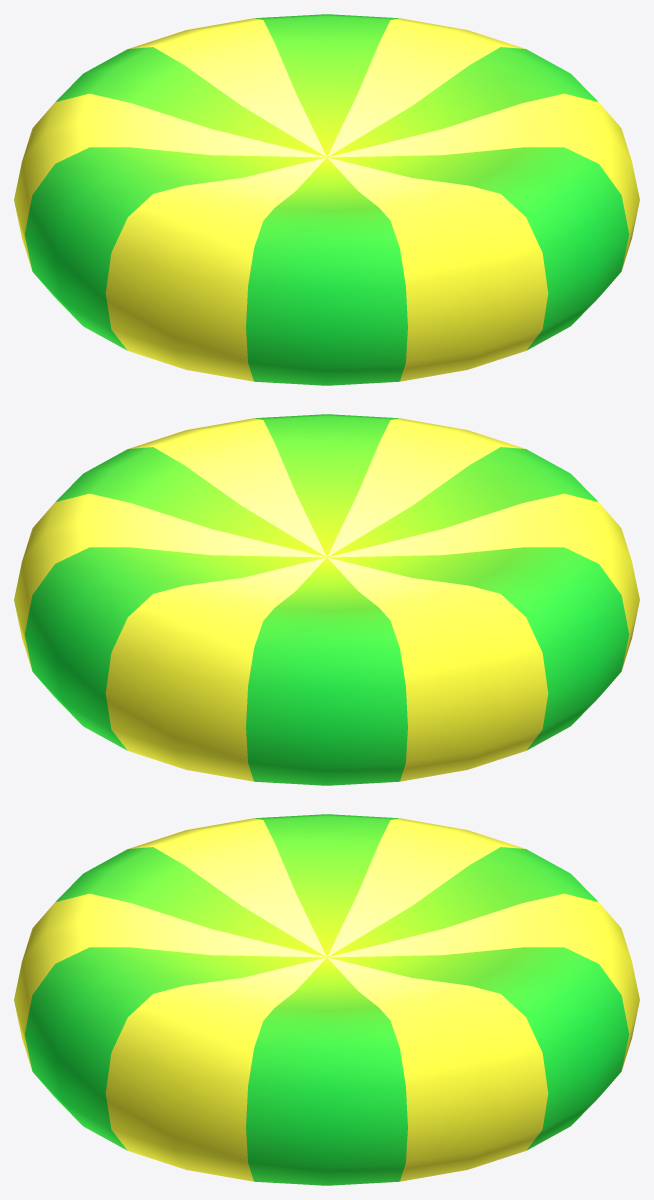
Rendered from Candy_10.glb.
3 renders of one model, top to bottom at view 1: azimuth 30°, elevation 25°; view 2: azimuth 150°, elevation 25°; view 3: azimuth 270°, elevation 25°, orthographic.
Parts seen in each view (by area): view 1: Candy_10; view 2: Candy_10; view 3: Candy_10.
Part boxes in pixels (bbox=[...]): Candy_10: bbox=[14, 14, 639, 385]; Candy_10: bbox=[14, 414, 639, 785]; Candy_10: bbox=[14, 814, 639, 1185].
Size of the model in its own units: 3.37 by 0.9452 by 3.37.
1 material, 1 textured.
